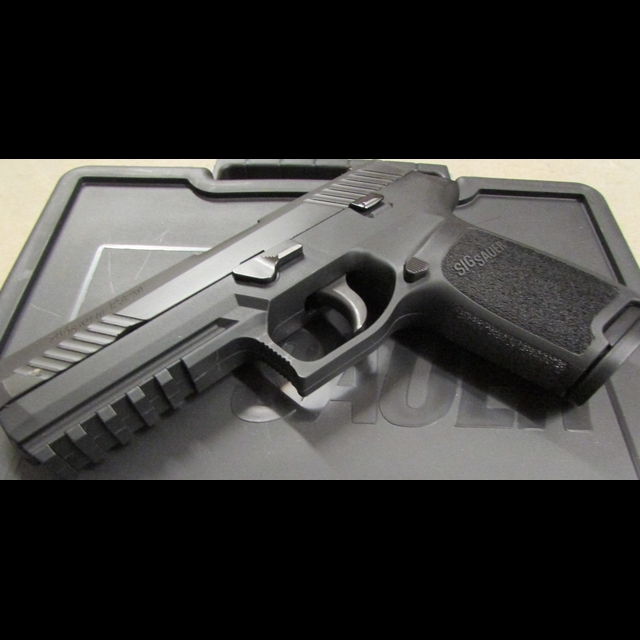SILAH: (2, 158, 640, 475)
